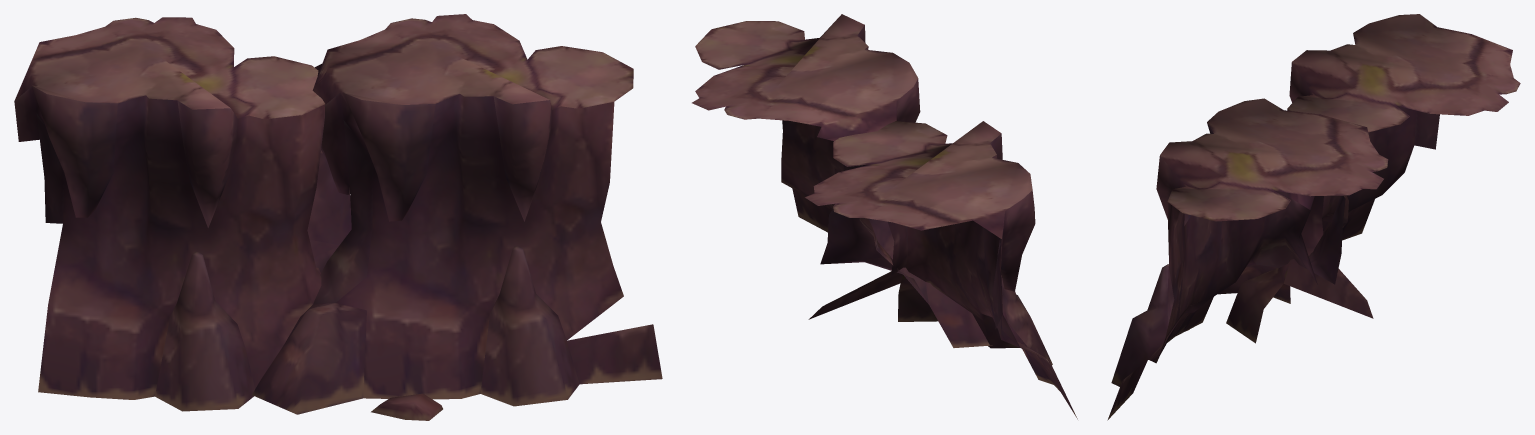
File: area9_shiqiang_01.FBX
3 renders of one model, left to right at view 1: azimuth 30°, elevation 25°; view 2: azimuth 150°, elevation 25°; view 3: azimuth 270°, elevation 25°, orthographic. The views are drawn at different scales.
Parts seen in each view (by area): view 1: area9_shiqiang_01; view 2: area9_shiqiang_01; view 3: area9_shiqiang_01.
Boxes of the visible parts, x1,y1,x2,y2 form: area9_shiqiang_01: [14, 14, 662, 420]; area9_shiqiang_01: [692, 14, 1077, 419]; area9_shiqiang_01: [1107, 14, 1520, 420].
Size of the model in its own units: 1570 by 838 by 1311.
